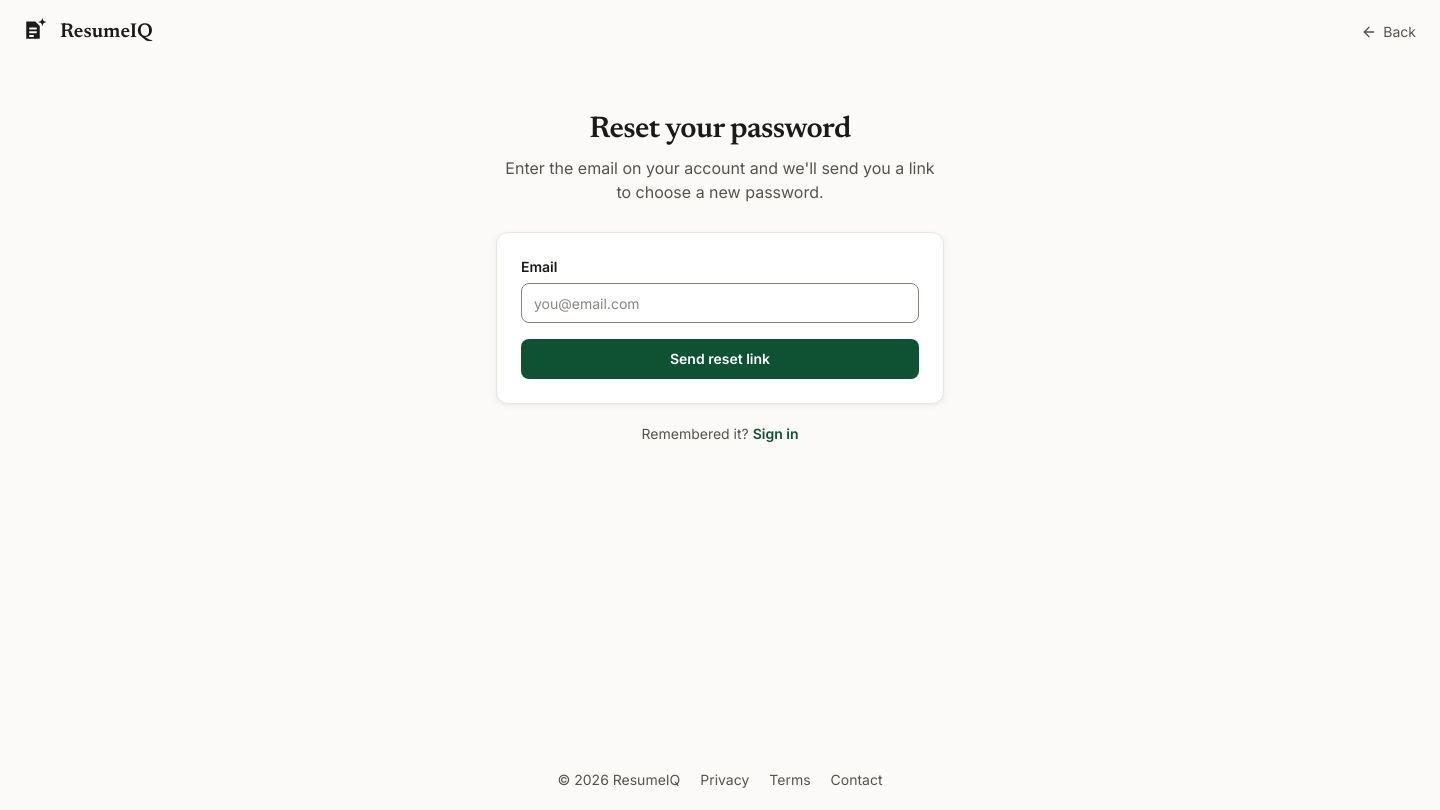
Test case: ForgotPasswordPage › shows a retry message when the request fails
Type "maya@example.com" into the field labelled "Email" at (720, 303), box [521,283,919,323]
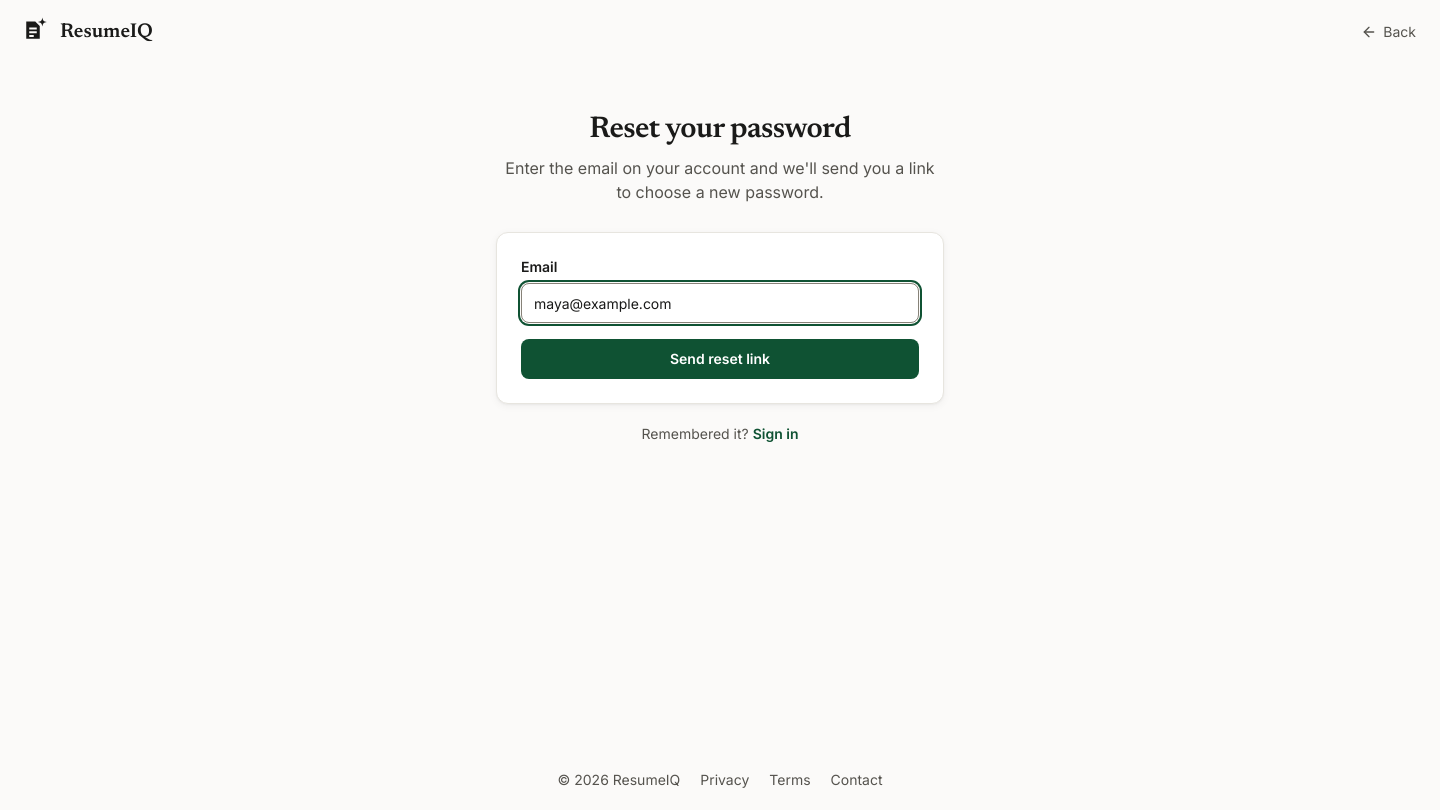
Click the button "Send reset link" at (720, 359), box [521,339,919,379]
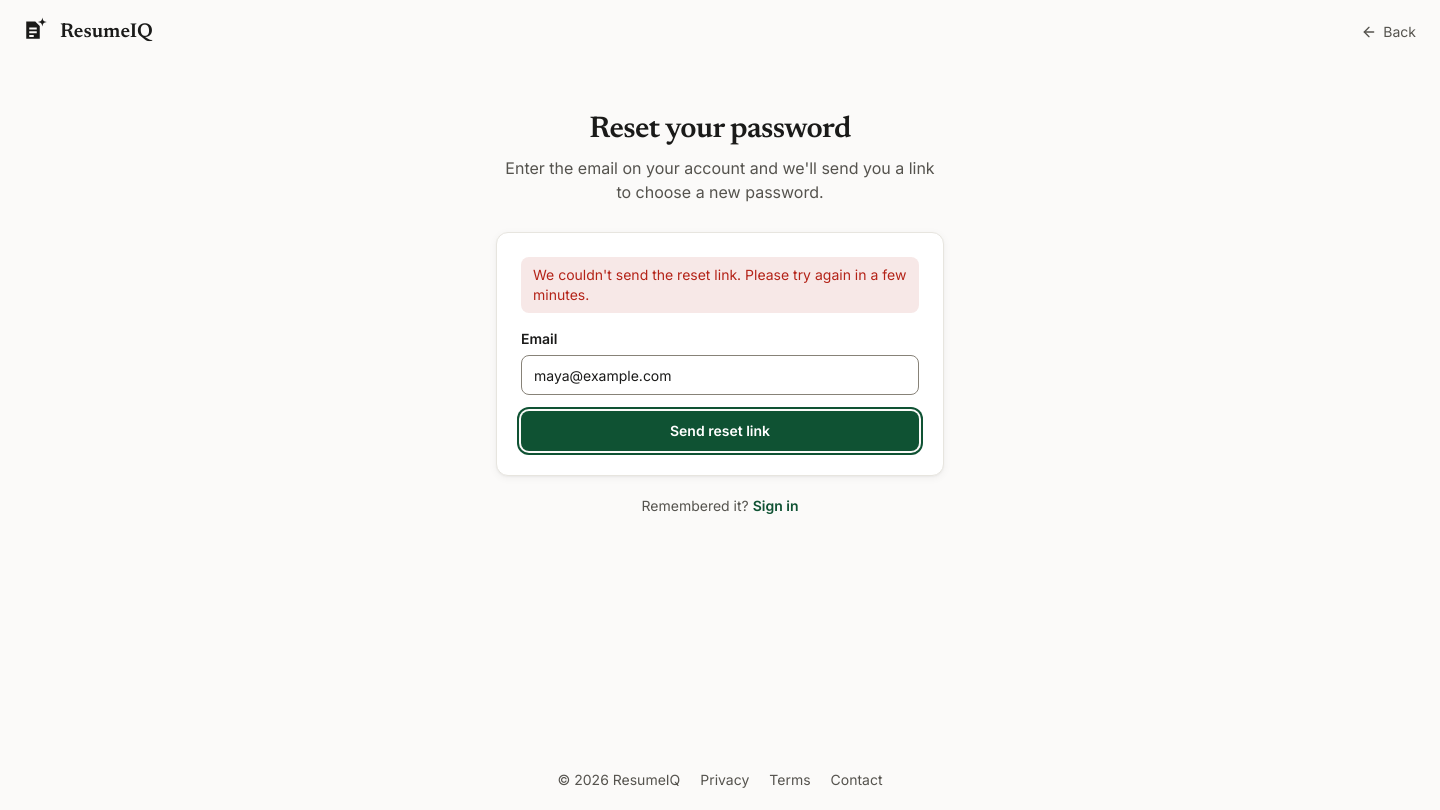
Result: the message shows "couldn't send the reset link" at [533,266,906,303]
